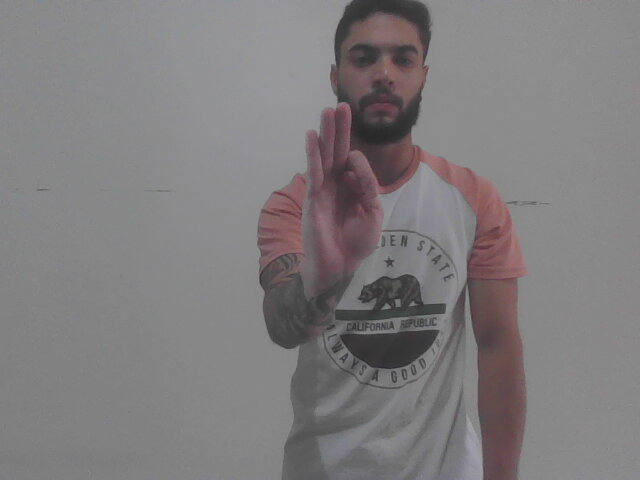t: (298, 98, 387, 294)
